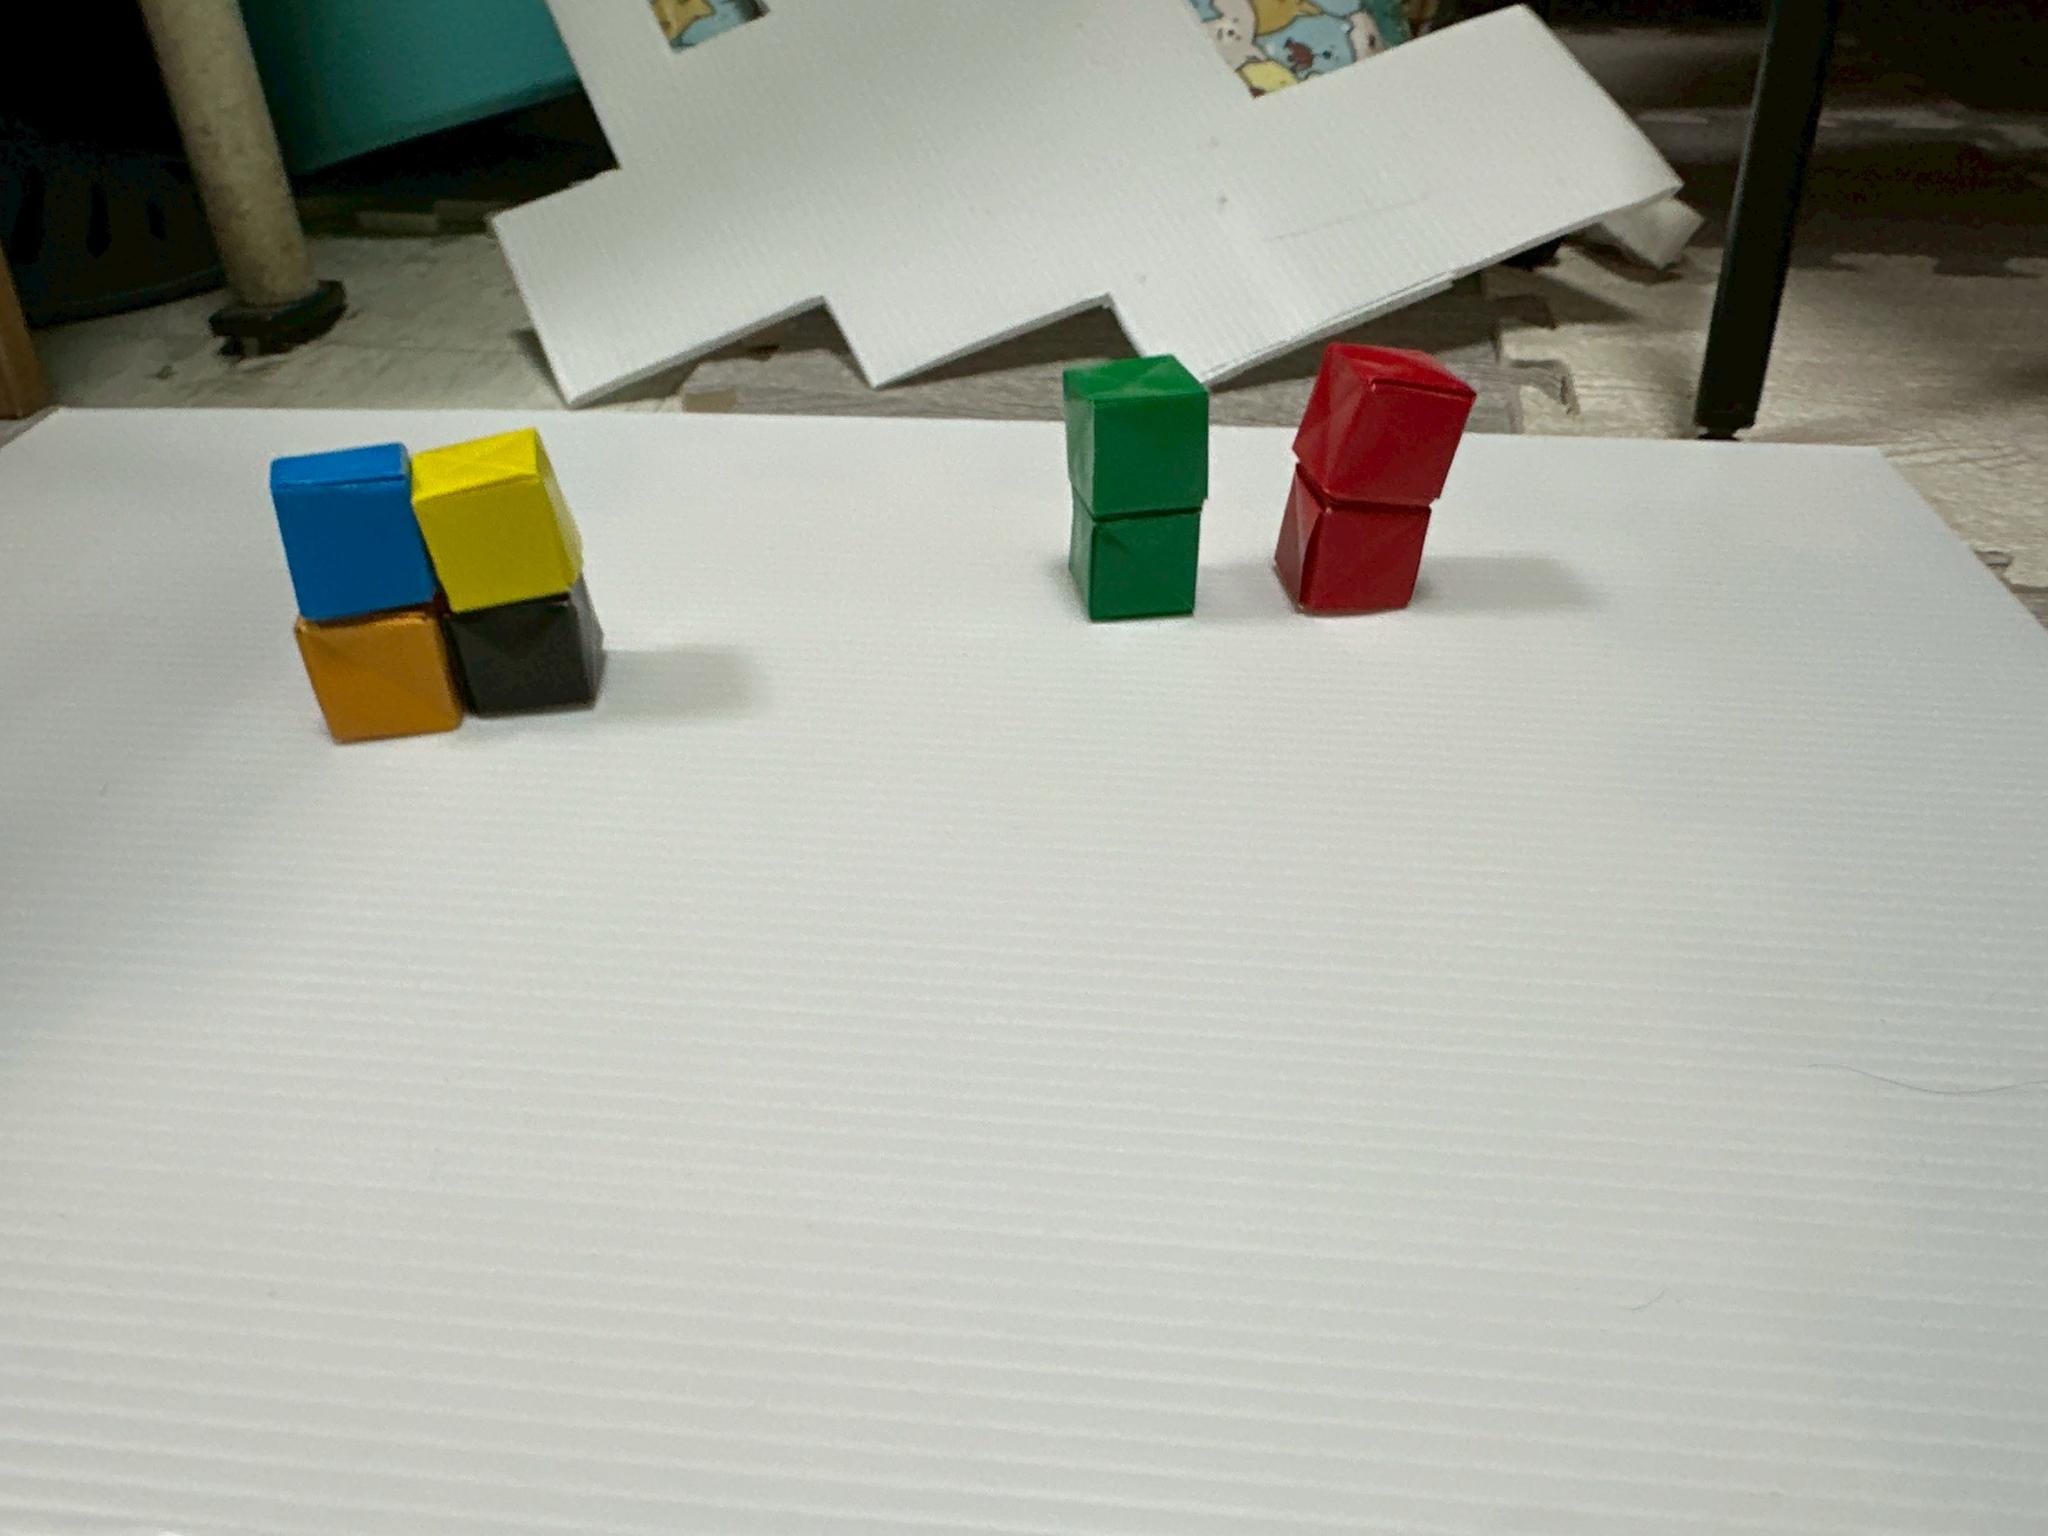base: (413, 428, 581, 613), (269, 442, 437, 623), (1295, 344, 1476, 505), (1063, 357, 1208, 518), (443, 576, 606, 716), (295, 608, 463, 744), (1276, 478, 1429, 615), (1069, 499, 1200, 620)
